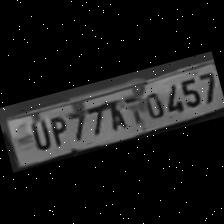0: (137, 86, 166, 123)
4: (156, 78, 184, 116)
5: (174, 72, 202, 110)
7: (80, 100, 108, 140), (63, 105, 91, 144), (194, 68, 222, 106)
A: (97, 97, 129, 136)
P: (42, 111, 70, 149)
U: (22, 114, 52, 154)
